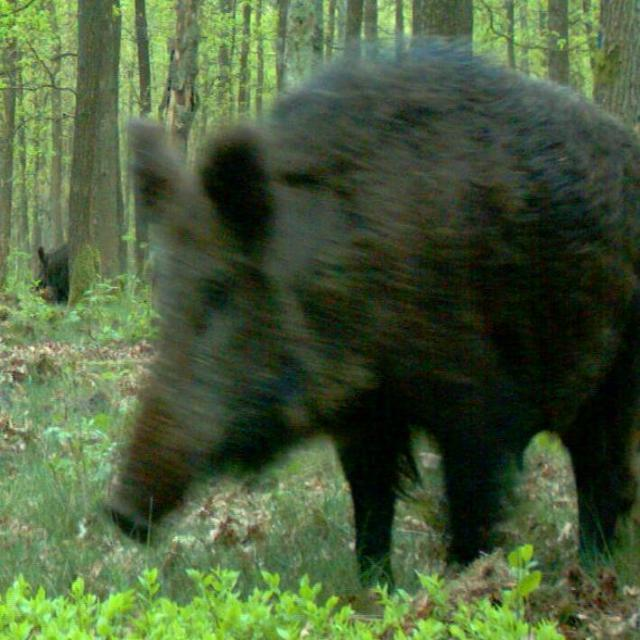pig: (77, 76, 640, 609)
